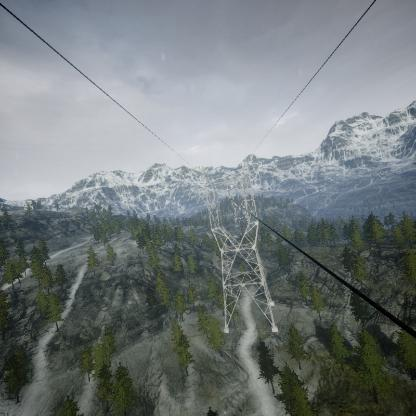tower: (189, 161, 280, 338)
